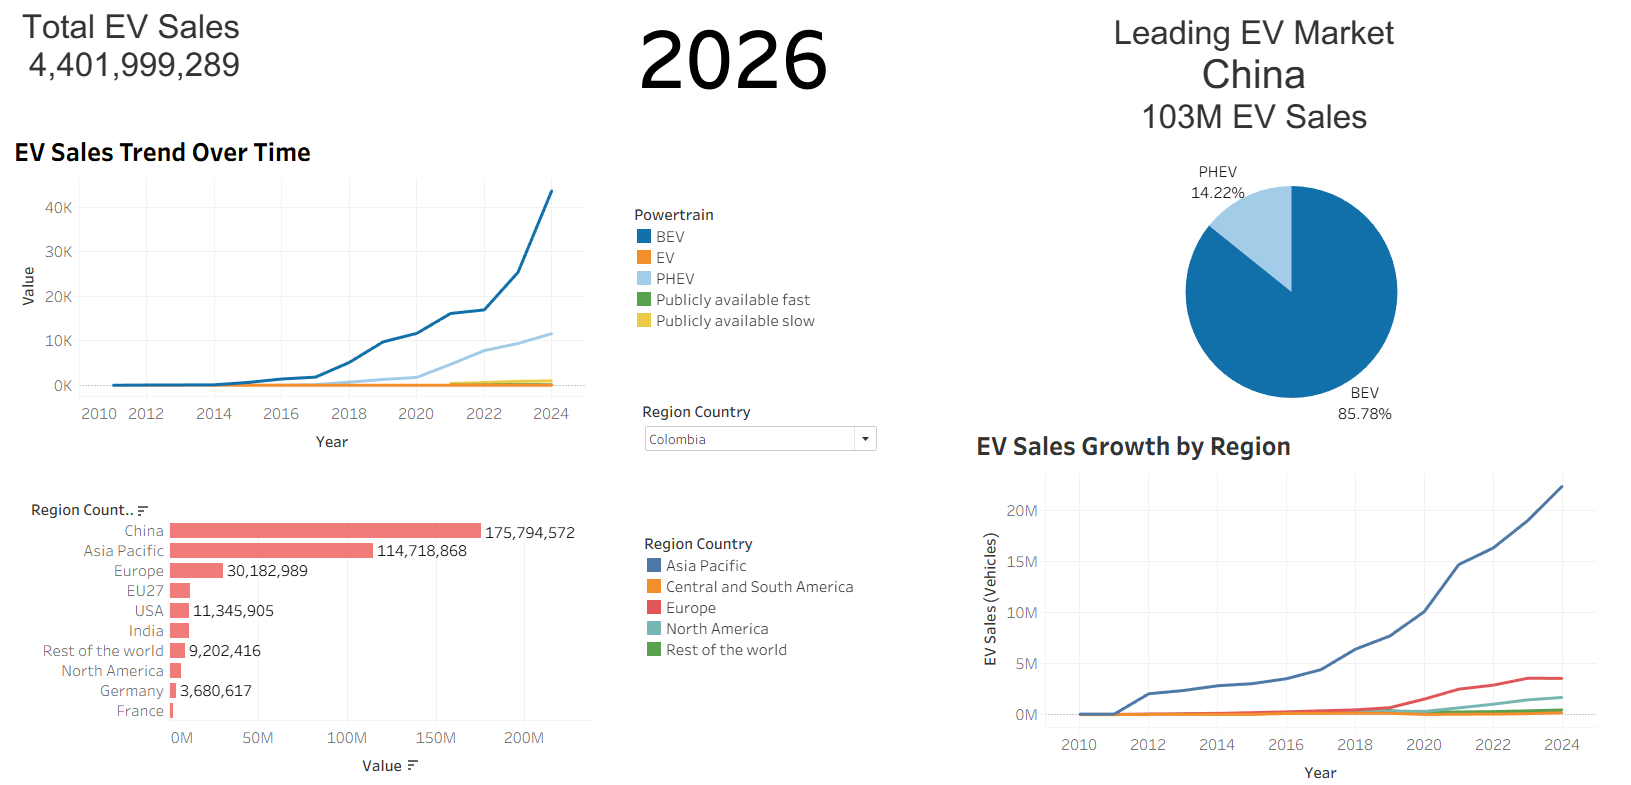

The dashboard page shown, as its layout file describes it:
{"tool":"tableau","page":{"name":"EV Market Analysis Dashboard","canvas":[1700,800],"ordinal":0},"visuals":[{"type":"text","box":[642,15,234,98]},{"type":"worksheet","title":"Top EV Sales","mark":"Automatic","box":[12,16,441,89]},{"type":"worksheet","title":"Leading EV Market","mark":"Automatic","box":[1112,22,472,133]},{"type":"worksheet","title":"Value by Year","mark":"Automatic","rows":["value"],"cols":["year"],"box":[18,138,575,329]},{"type":"worksheet","title":"EV Powertrain Market Share","mark":"Pie","box":[1016,167,567,266]},{"type":"legend","title":"Value by Year","param":"[federated.04yry5n1ui55nx183rufl13x9twg].[none:powertrain:nk]","box":[642,212,264,148]},{"type":"filter","title":"Value by Year","param":"[federated.04yry5n1ui55nx183rufl13x9twg].[none:region_country:nk]","box":[650,409,238,61]},{"type":"worksheet","title":"EV Sales Growth by Region","mark":"Line","rows":["value"],"cols":["year"],"box":[980,432,624,366]},{"type":"worksheet","title":"Value by Country","mark":"Automatic","rows":["region_country"],"cols":["value"],"box":[37,508,566,285]},{"type":"legend","title":"EV Sales Growth by Region","param":"[federated.04yry5n1ui55nx183rufl13x9twg].[none:region_country:nk]","box":[652,541,304,127]}]}

Visuals, with their boxes in screenshot pixels (x1, y1, x2, y2), scaled from the page's 1700x800 canvas onto the 1631x785 screenshot:
text: [x1=616, y1=15, x2=840, y2=111]
"Top EV Sales" worksheet: [x1=12, y1=16, x2=435, y2=103]
"Leading EV Market" worksheet: [x1=1067, y1=22, x2=1520, y2=152]
"Value by Year" worksheet: [x1=17, y1=135, x2=569, y2=458]
"EV Powertrain Market Share" worksheet (Pie marks): [x1=975, y1=164, x2=1519, y2=425]
"Value by Year" legend: [x1=616, y1=208, x2=869, y2=353]
"Value by Year" filter: [x1=624, y1=401, x2=852, y2=461]
"EV Sales Growth by Region" worksheet (Line marks): [x1=940, y1=424, x2=1539, y2=783]
"Value by Country" worksheet: [x1=35, y1=498, x2=579, y2=778]
"EV Sales Growth by Region" legend: [x1=626, y1=531, x2=917, y2=655]
